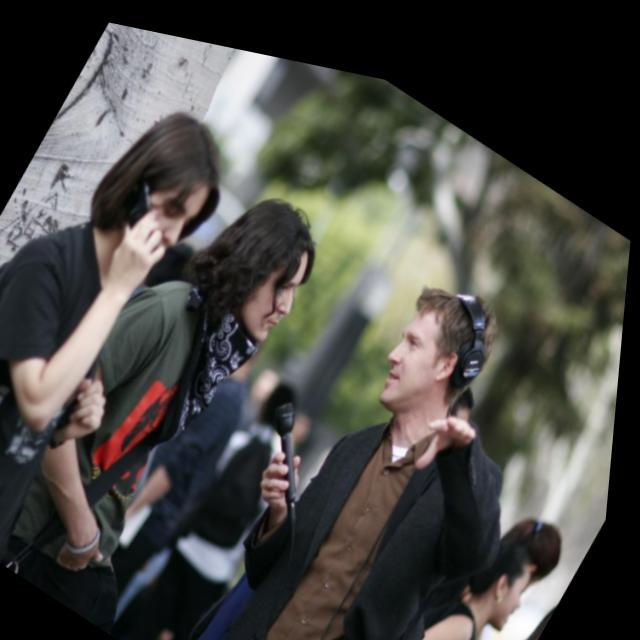Nonhelmet: (366, 278, 498, 420)
